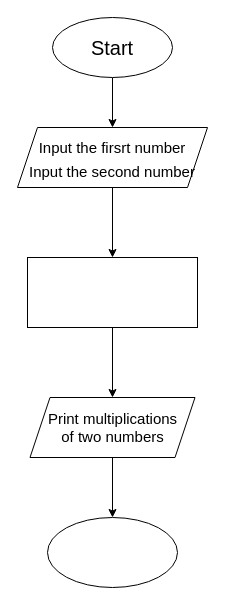
Some shapes in this 225 by 605 pixel diagram are drawn without their labels. Here are the shapes that lost their labels. From the top down, the centre of each, then its label:
pixel 112 292: Multiply the first with the second number
pixel 112 552: End
